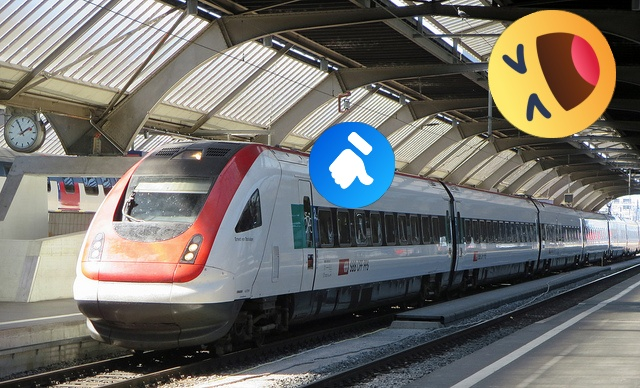haha: (488, 10, 616, 138)
like: (309, 122, 395, 208)
